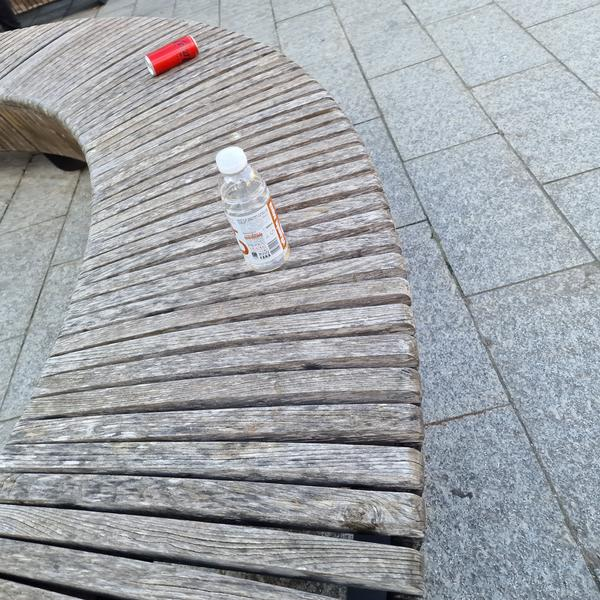can: (141, 30, 203, 79)
plastic_bottle: (198, 136, 299, 280)
